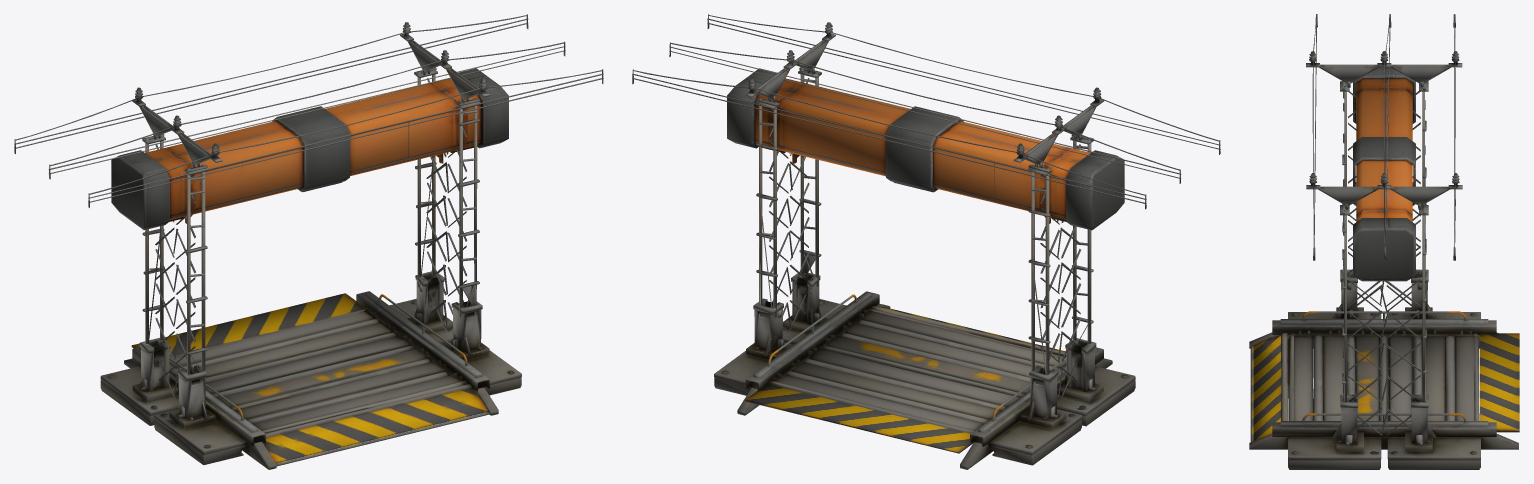
Rendered from selected.fbx.
3 views of the same model, side by side, from view 1: azimuth 30°, elevation 25°; view 2: azimuth 150°, elevation 25°; view 3: azimuth 270°, elevation 25° (orthographic). The views are drawn at different scales.
Visible parts, largest first — view 1: tripo_node_d275d806-1bd2-4c2e-a15d-38a2af15cee9; view 2: tripo_node_d275d806-1bd2-4c2e-a15d-38a2af15cee9; view 3: tripo_node_d275d806-1bd2-4c2e-a15d-38a2af15cee9.
Boxes of the visible parts, left/top/right/bottom form: tripo_node_d275d806-1bd2-4c2e-a15d-38a2af15cee9: left=14, top=14, right=603, bottom=469; tripo_node_d275d806-1bd2-4c2e-a15d-38a2af15cee9: left=632, top=14, right=1220, bottom=469; tripo_node_d275d806-1bd2-4c2e-a15d-38a2af15cee9: left=1249, top=14, right=1519, bottom=469.
Bounding box in the file's own units: 0.9995 × 0.5679 × 0.4888.
Materials: 1 (1 with a texture image).
